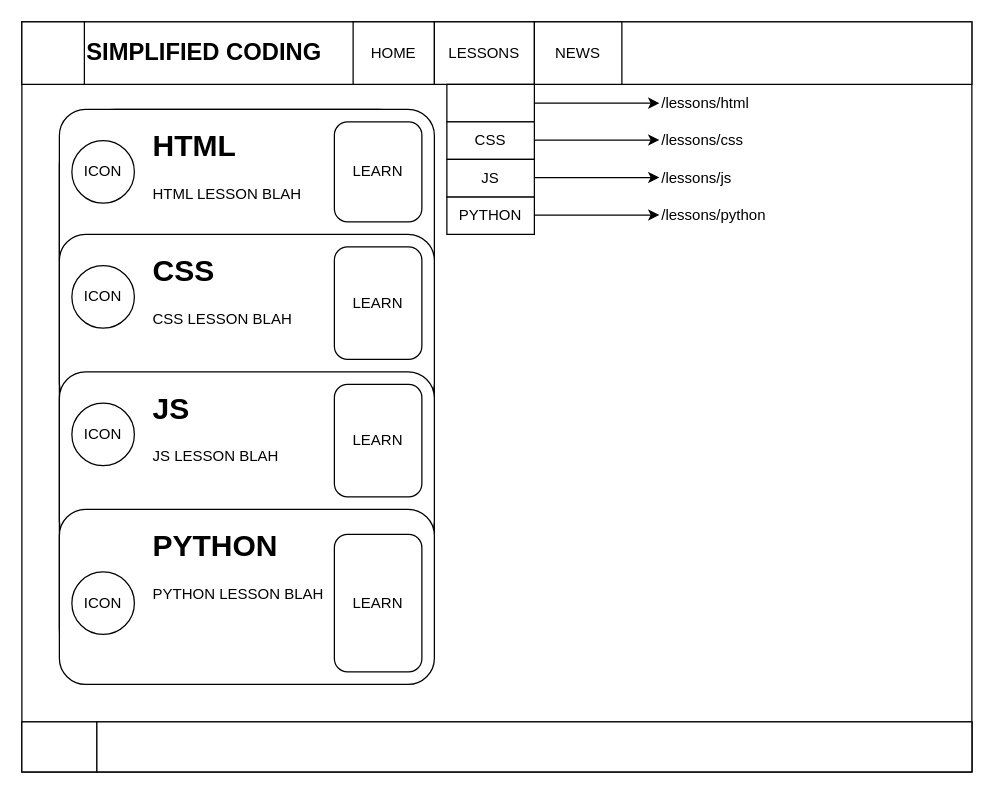
The diagram is 994 pixels wide and 794 high, and some of its shapes have lost their labels. Each missing label, with the centre of its shape:
"FISCALLY SPONSORED" belongs at pixel 534 746.
"HC BANK ICON" belongs at pixel 59 746.
"HTML" belongs at pixel 490 102.
"LOGO" belongs at pixel 52 52.
